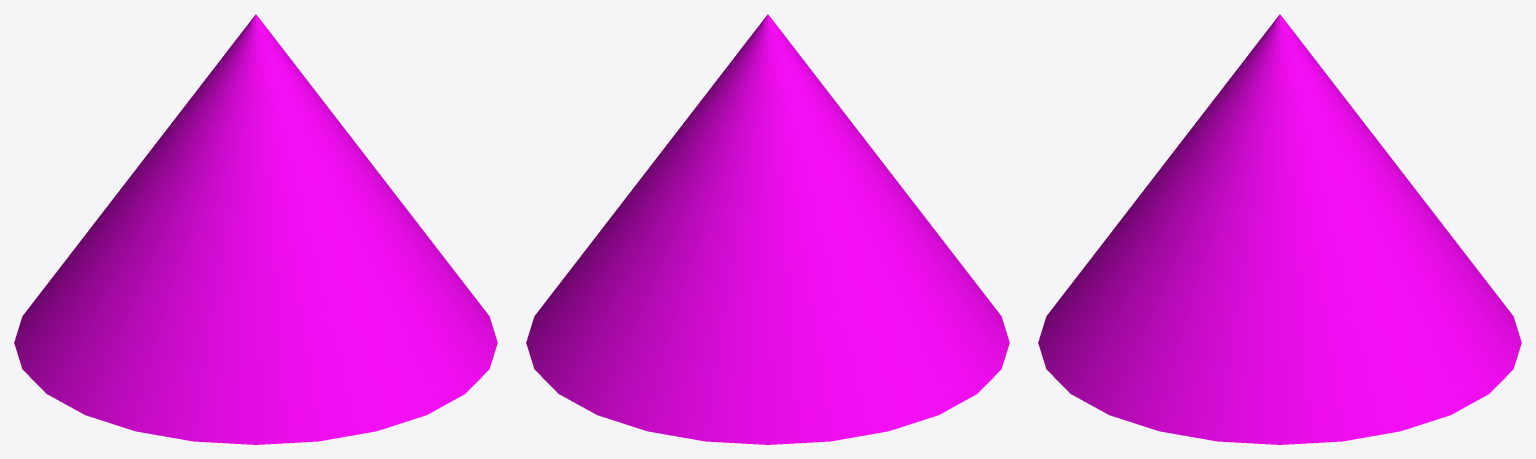
3 renders of one model, left to right at view 1: azimuth 30°, elevation 25°; view 2: azimuth 150°, elevation 25°; view 3: azimuth 270°, elevation 25°, orthographic.
Visible parts, largest first — view 1: Cone001; view 2: Cone001; view 3: Cone001.
Boxes of the visible parts, box(x1,y1,x2,y2) form: Cone001: box(14, 14, 497, 444); Cone001: box(526, 14, 1009, 444); Cone001: box(1038, 14, 1521, 444).
Size of the model in its own units: 20 by 20 by 15.
